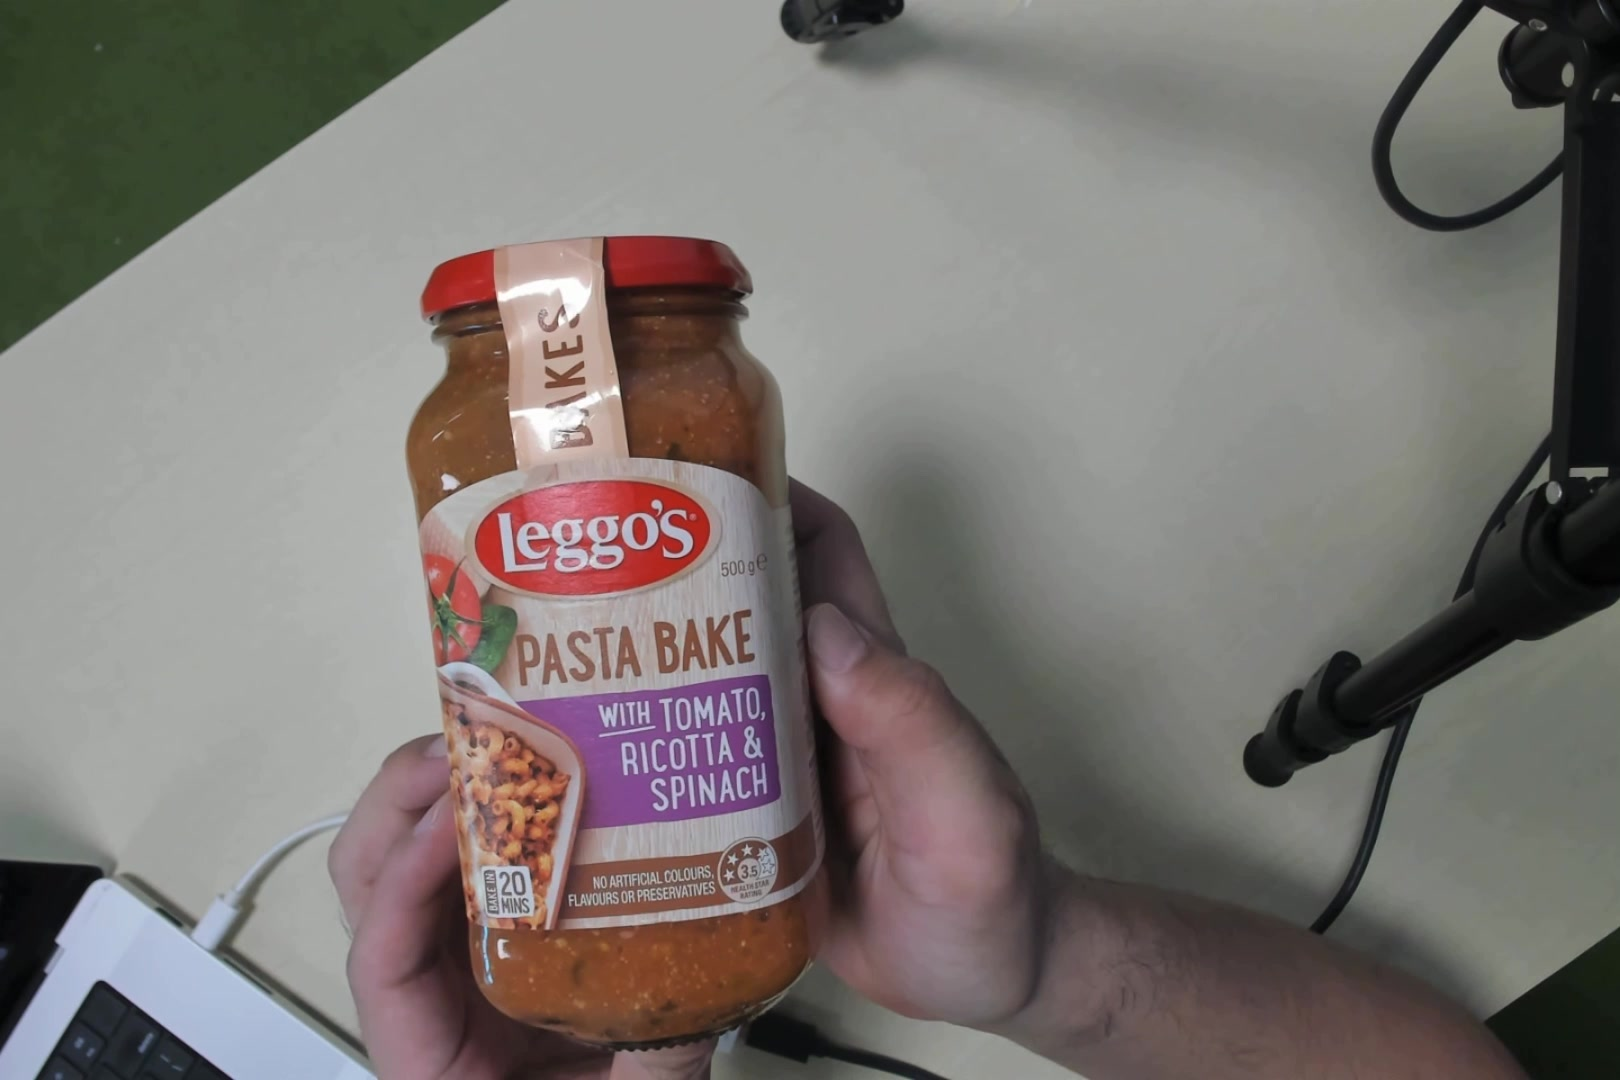Pasta_500-599g_Halal_NonHealthy: (436, 256, 843, 1019)
